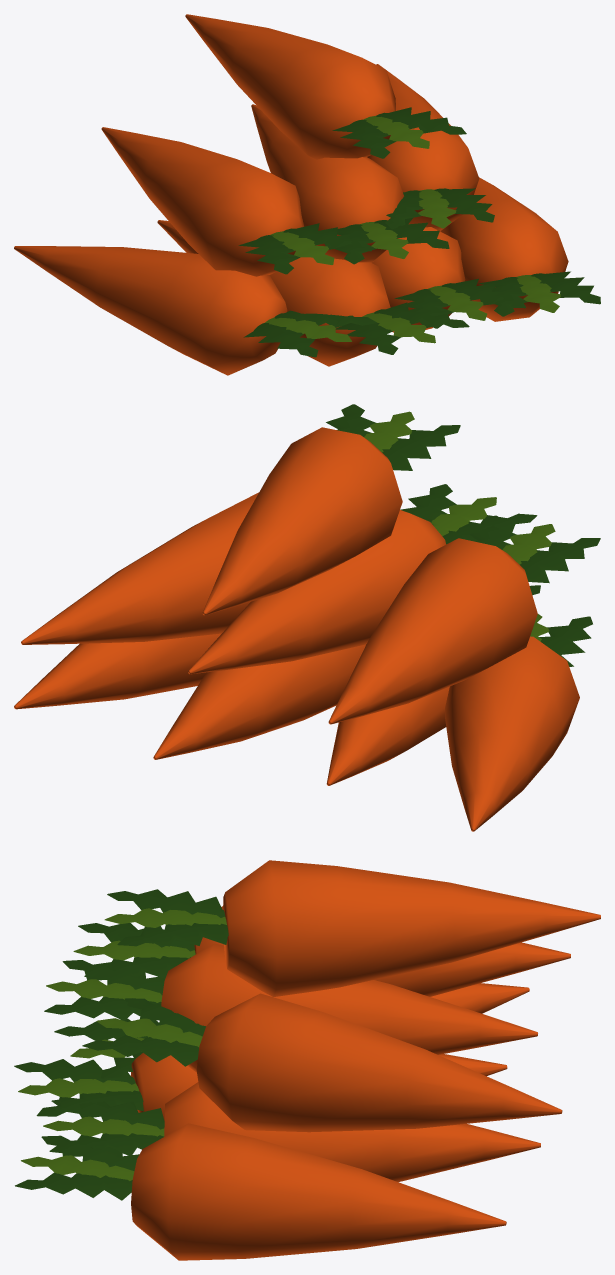
The model's file is pile-vegetable-8.obj.
3 renders of one model, top to bottom at view 1: azimuth 30°, elevation 25°; view 2: azimuth 150°, elevation 25°; view 3: azimuth 270°, elevation 25°, orthographic. The views are drawn at different scales.
Visible parts, largest first — view 1: pile-vegetable-8; view 2: pile-vegetable-8; view 3: pile-vegetable-8.
Boxes of the visible parts, <box> form: pile-vegetable-8: <box>14,14,600,375</box>; pile-vegetable-8: <box>14,404,600,831</box>; pile-vegetable-8: <box>14,860,600,1260</box>.
Bounding box in the file's own units: 0.6447 × 0.392 × 0.675.
Materials: 1 (1 with a texture image).
